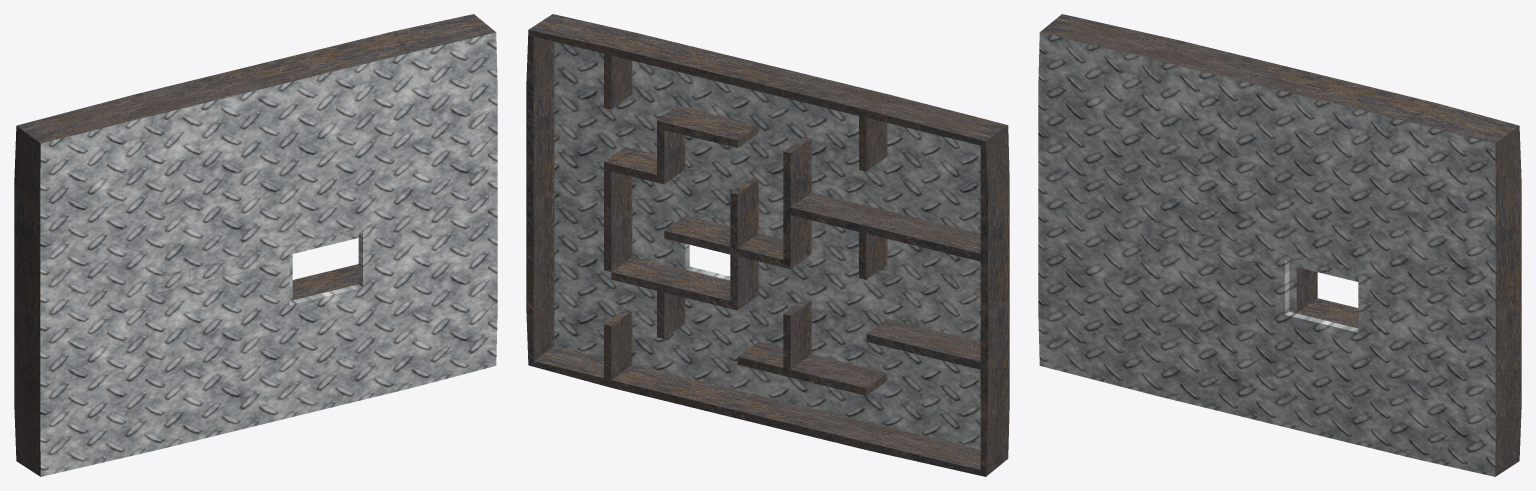
Rendered from Labyrinth.FBX.
3 renders of one model, left to right at view 1: azimuth 30°, elevation 25°; view 2: azimuth 150°, elevation 25°; view 3: azimuth 330°, elevation 25°, orthographic.
Visible parts, largest first — view 1: floor, walls; view 2: floor, walls; view 3: floor, walls.
Part boxes in pixels (<box>): floor: <box>40,32,497,476</box>; walls: <box>14,14,495,476</box>; floor: <box>554,41,980,449</box>; walls: <box>526,14,1009,476</box>; floor: <box>1038,32,1495,476</box>; walls: <box>1040,14,1521,476</box>.
Bounding box in the file's own units: 308 × 217 × 29.05.
2 materials, 2 textured.
